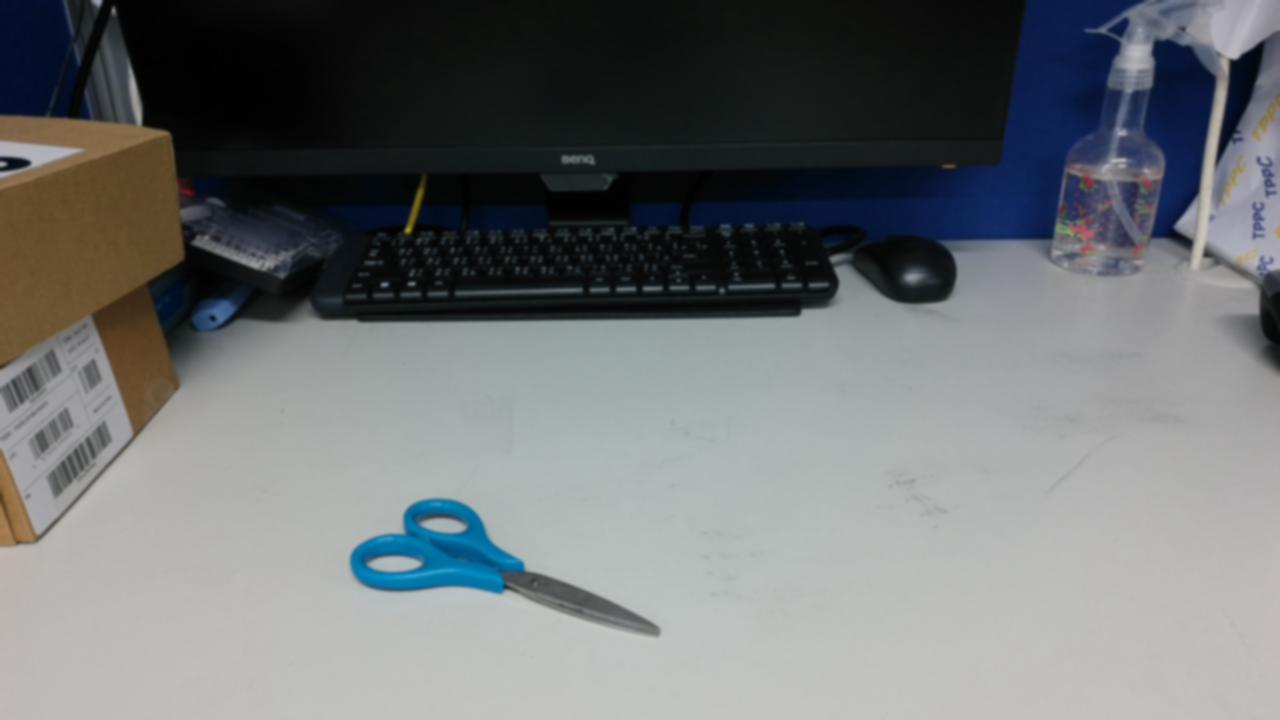columnar: (935, 462, 1068, 692)
